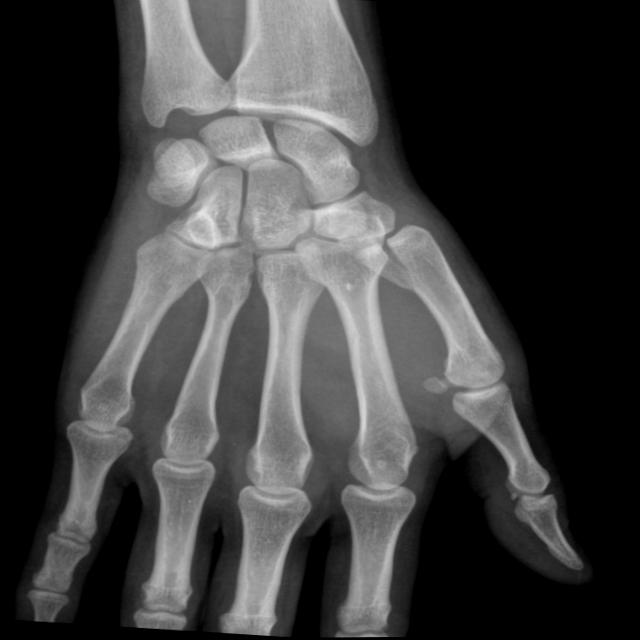Oblique: (348, 223, 450, 314)
